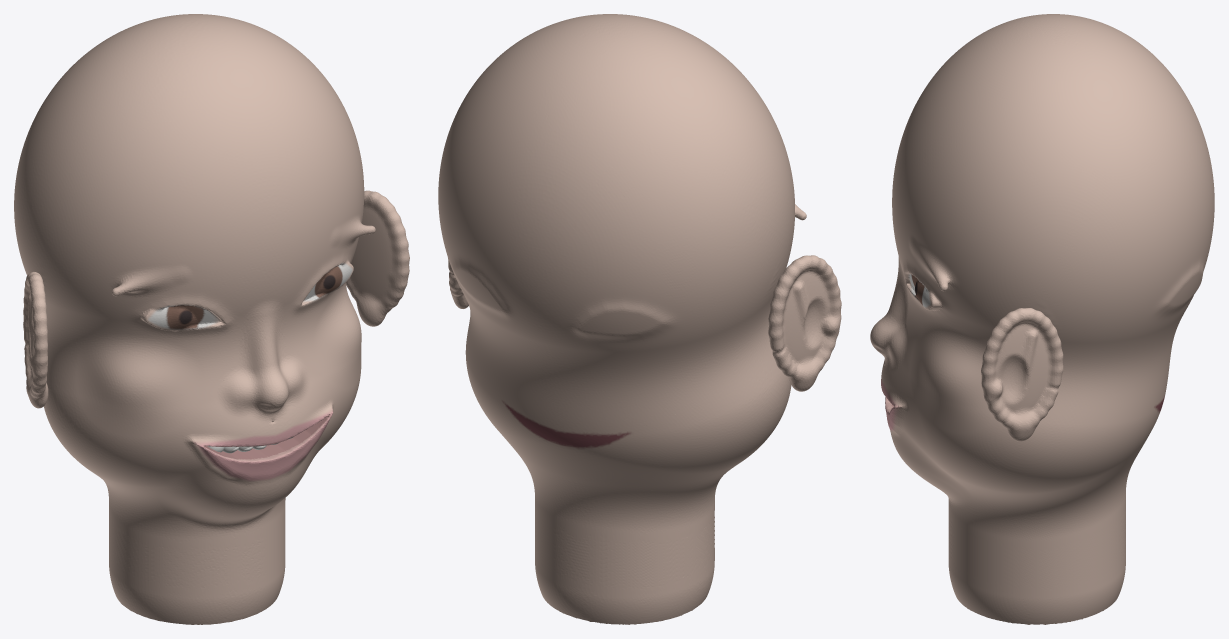
The model's file is karma_face_stage1_K_smile_EXPERIMENT.glb.
The picture shows the model from 3 angles, left to right: view 1: azimuth 30°, elevation 25°; view 2: azimuth 150°, elevation 25°; view 3: azimuth 270°, elevation 25°; orthographic projection.
Parts seen in each view (by area): view 1: head; view 2: head; view 3: head.
Part boxes in pixels (x1=…): head: x1=14, y1=14, x2=409, y2=624; head: x1=438, y1=14, x2=841, y2=624; head: x1=870, y1=14, x2=1214, y2=624.
Bounding box in the file's own units: 2.7 × 3.83 × 2.14.
